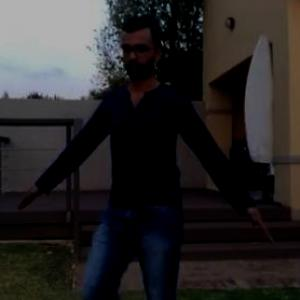land: (20, 23, 270, 299)
